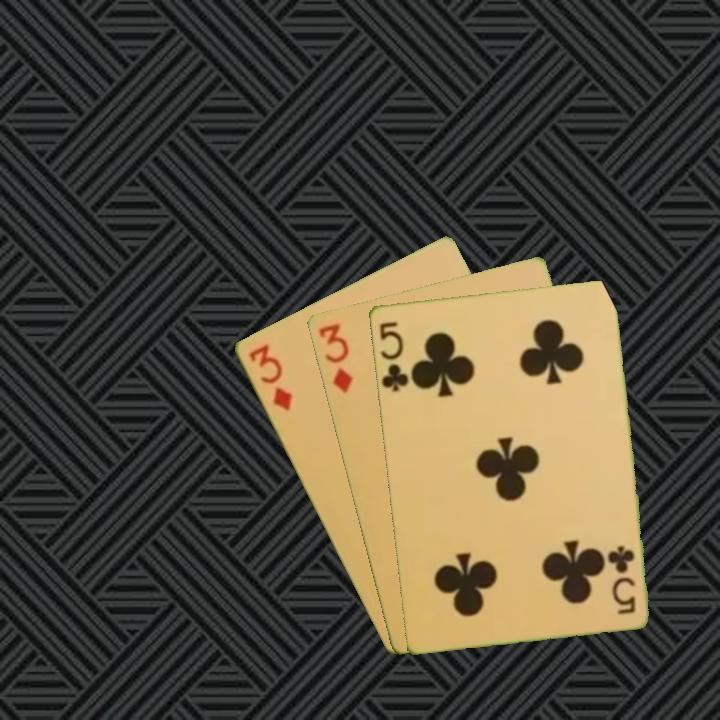3d: (244, 340, 295, 414), (314, 319, 357, 396)
5c: (375, 317, 411, 395), (606, 542, 638, 617)
